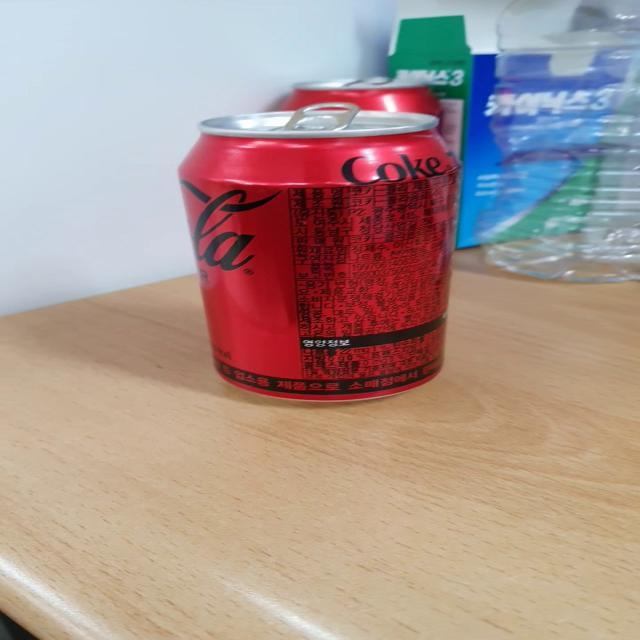coca-cola: (158, 97, 482, 416)
